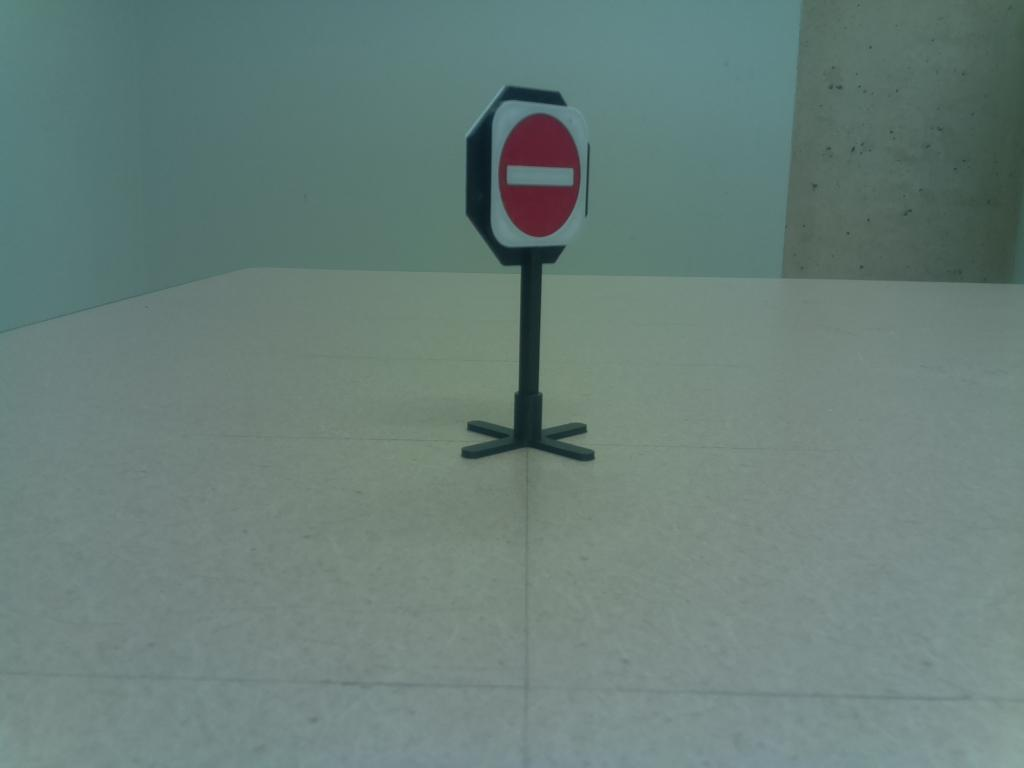sign_noentry: (455, 79, 601, 269)
